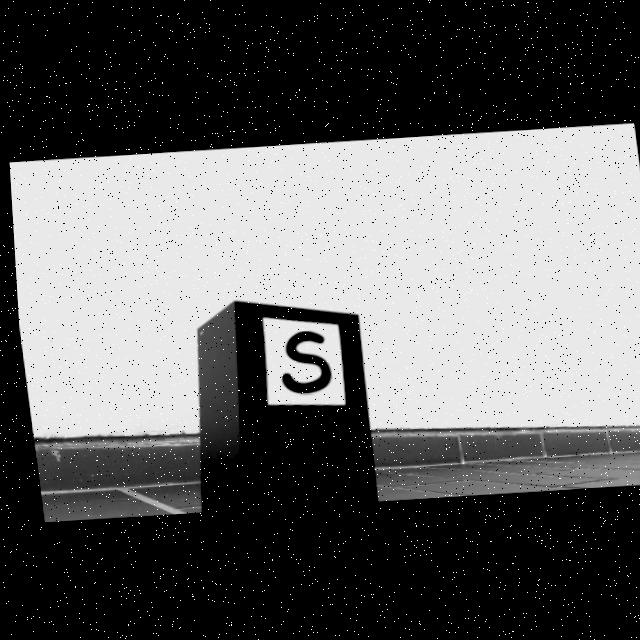S: (276, 331, 326, 394)
